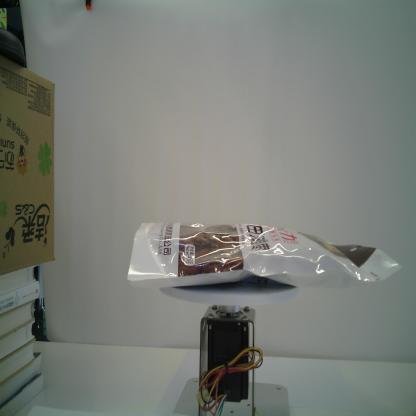Dried Food: (127, 222, 403, 290)
